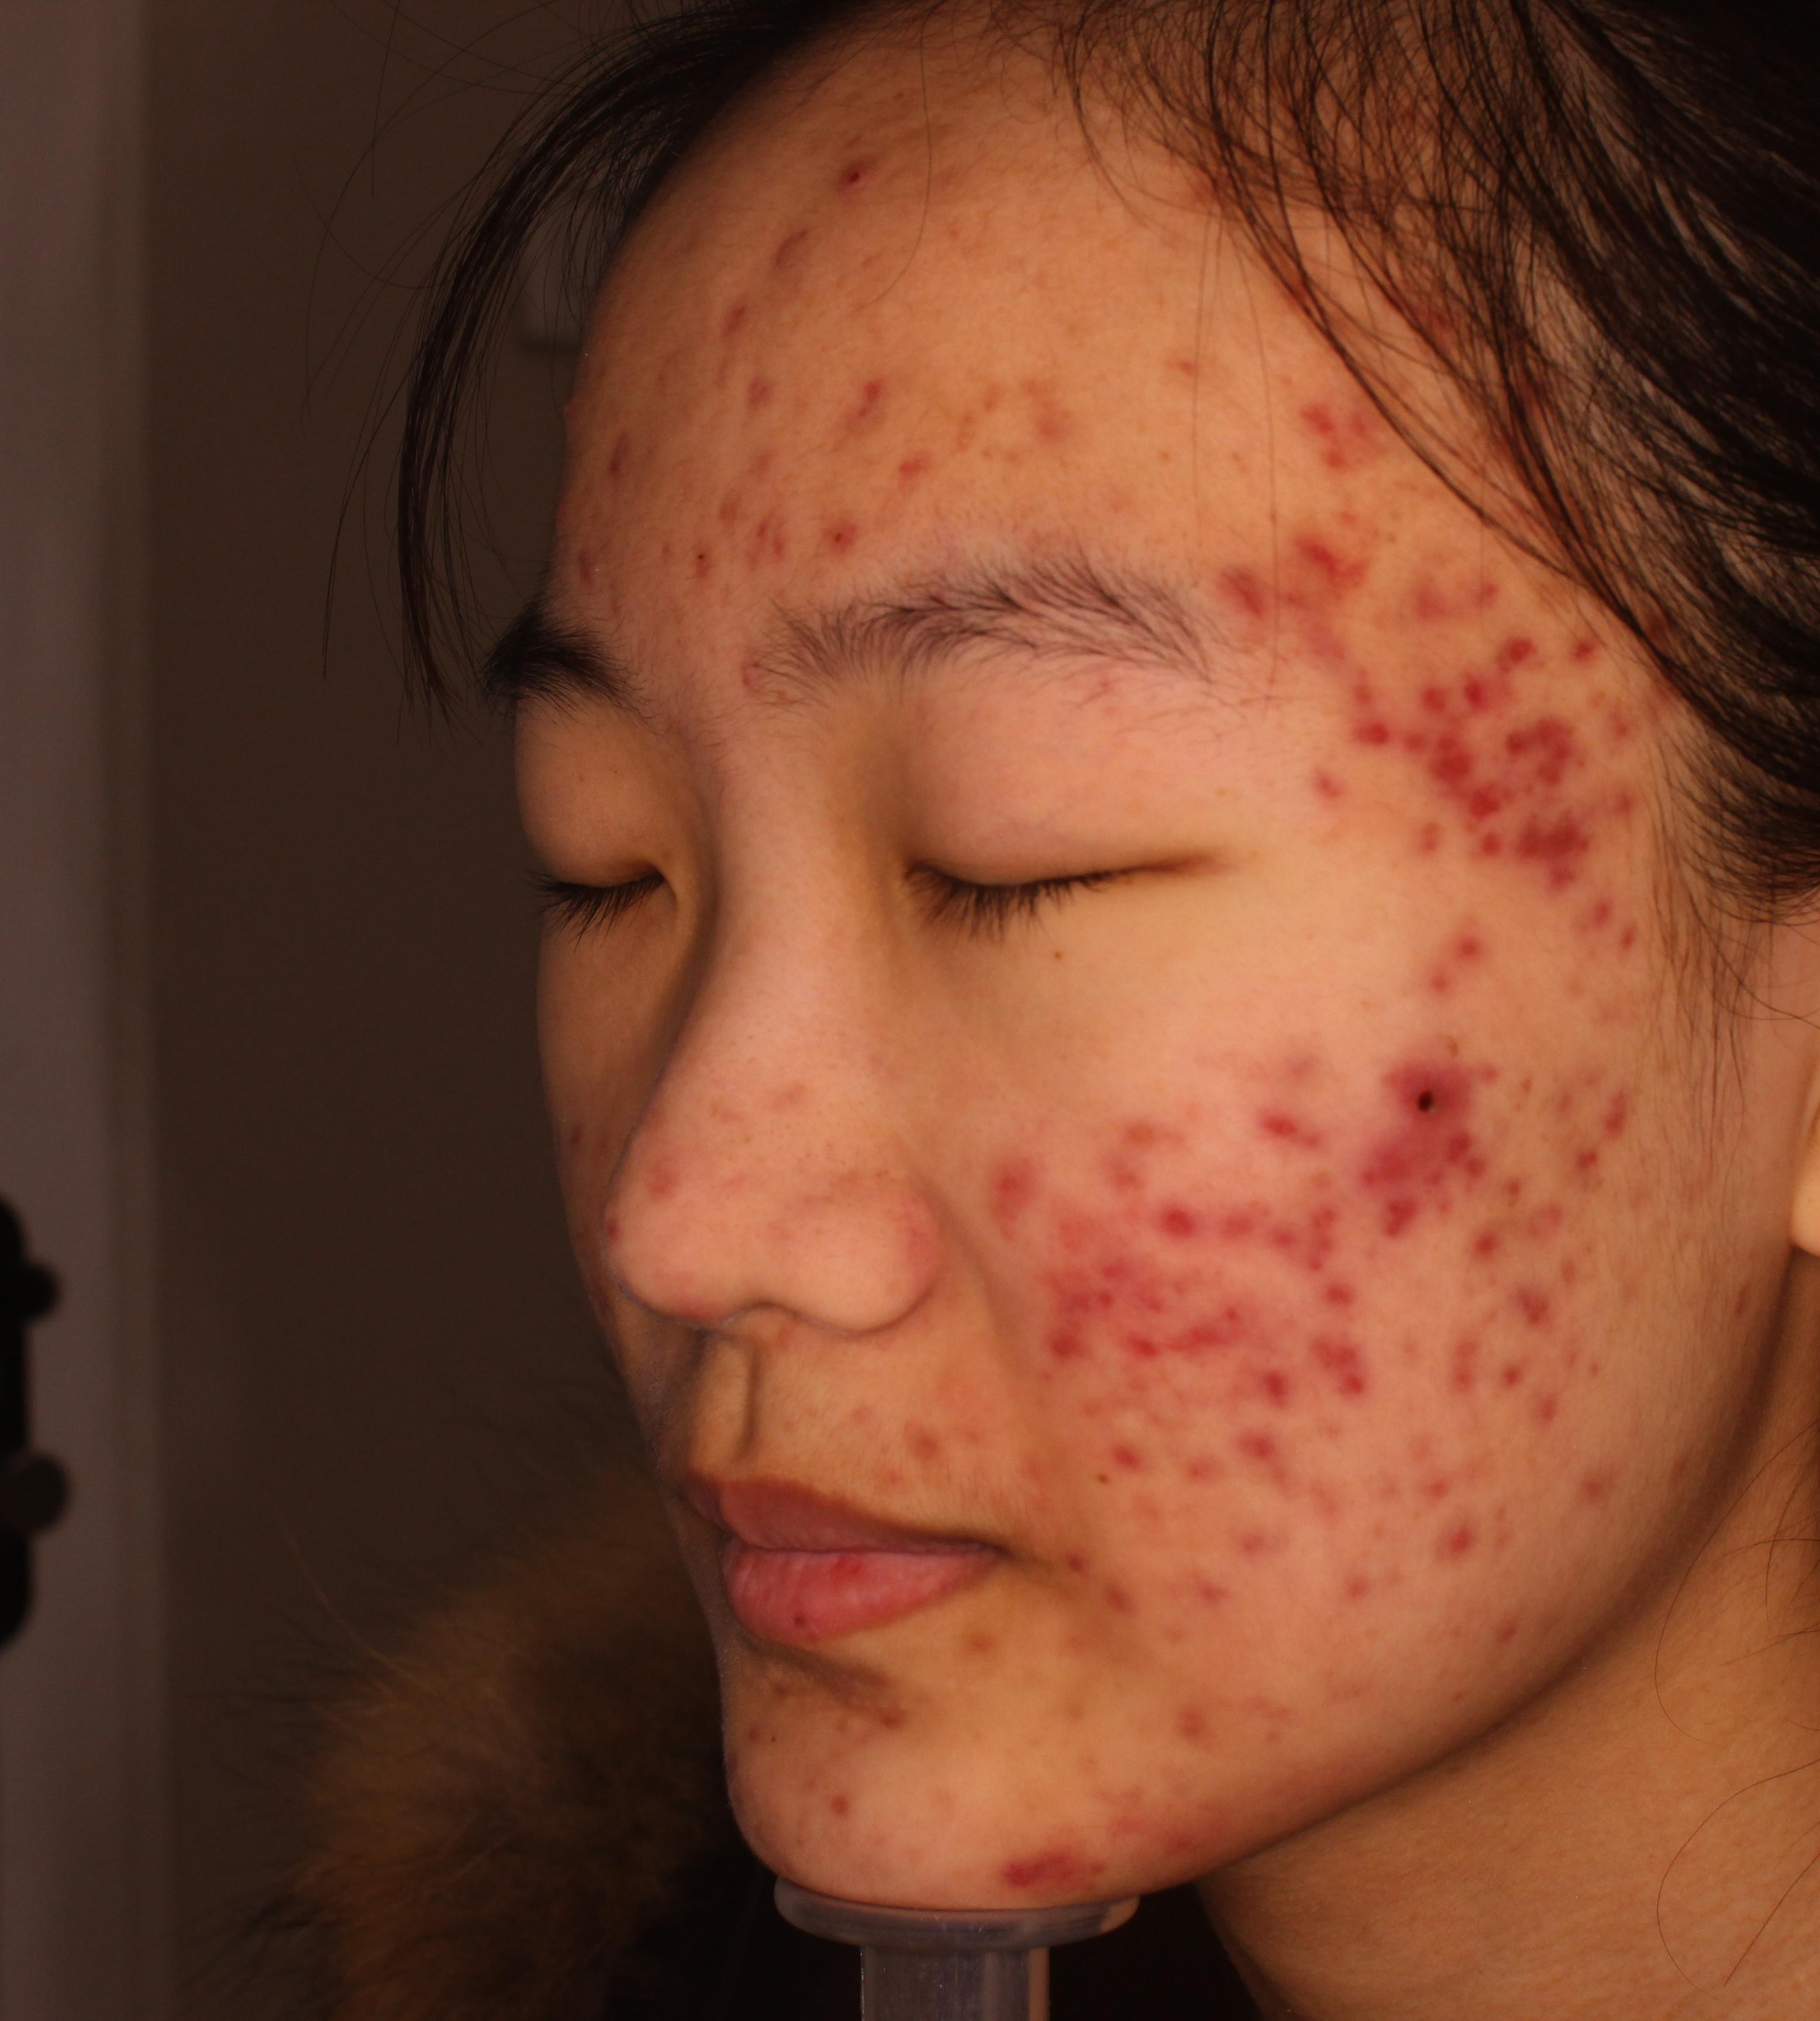fore: (1363, 1491, 1502, 1617), (1521, 567, 1641, 706), (629, 446, 759, 572), (1135, 1254, 1291, 1356), (921, 1127, 1042, 1254), (776, 478, 898, 599), (843, 365, 961, 478), (1112, 1110, 1224, 1222), (1279, 1208, 1381, 1326), (687, 321, 799, 420), (1233, 1075, 1349, 1168), (1579, 1064, 1667, 1185), (1198, 558, 1314, 648), (1309, 657, 1412, 757), (1400, 706, 1490, 818), (1404, 680, 1525, 760), (1412, 1361, 1548, 1433), (1059, 1213, 1158, 1312), (1005, 1805, 1103, 1903), (1296, 518, 1421, 595), (1144, 1176, 1242, 1271), (1247, 1361, 1332, 1464), (1265, 362, 1395, 428), (1430, 1176, 1525, 1266), (1282, 1306, 1381, 1392), (991, 369, 1096, 448), (1103, 1396, 1184, 1496), (1481, 1262, 1565, 1356), (1363, 1034, 1467, 1110), (1137, 1680, 1224, 1766), (1579, 734, 1664, 824), (791, 160, 942, 209), (696, 214, 785, 295), (1572, 876, 1651, 966), (1349, 1127, 1430, 1213), (1100, 1536, 1166, 1638), (1001, 1312, 1117, 1370), (805, 1770, 878, 1859), (1265, 743, 1346, 824), (736, 1652, 812, 1738), (1381, 927, 1484, 989), (1525, 806, 1609, 881), (1514, 1178, 1590, 1259), (947, 1601, 1008, 1698), (1288, 608, 1363, 685), (859, 1680, 935, 1756), (682, 523, 754, 595), (1430, 1118, 1507, 1182), (1174, 1438, 1244, 1505), (1449, 792, 1511, 867), (1565, 1452, 1636, 1517), (1263, 1032, 1333, 1097), (1493, 711, 1565, 774), (1718, 1268, 1774, 1347), (1207, 1522, 1265, 1598), (1467, 616, 1511, 697), (899, 1412, 950, 1477)
